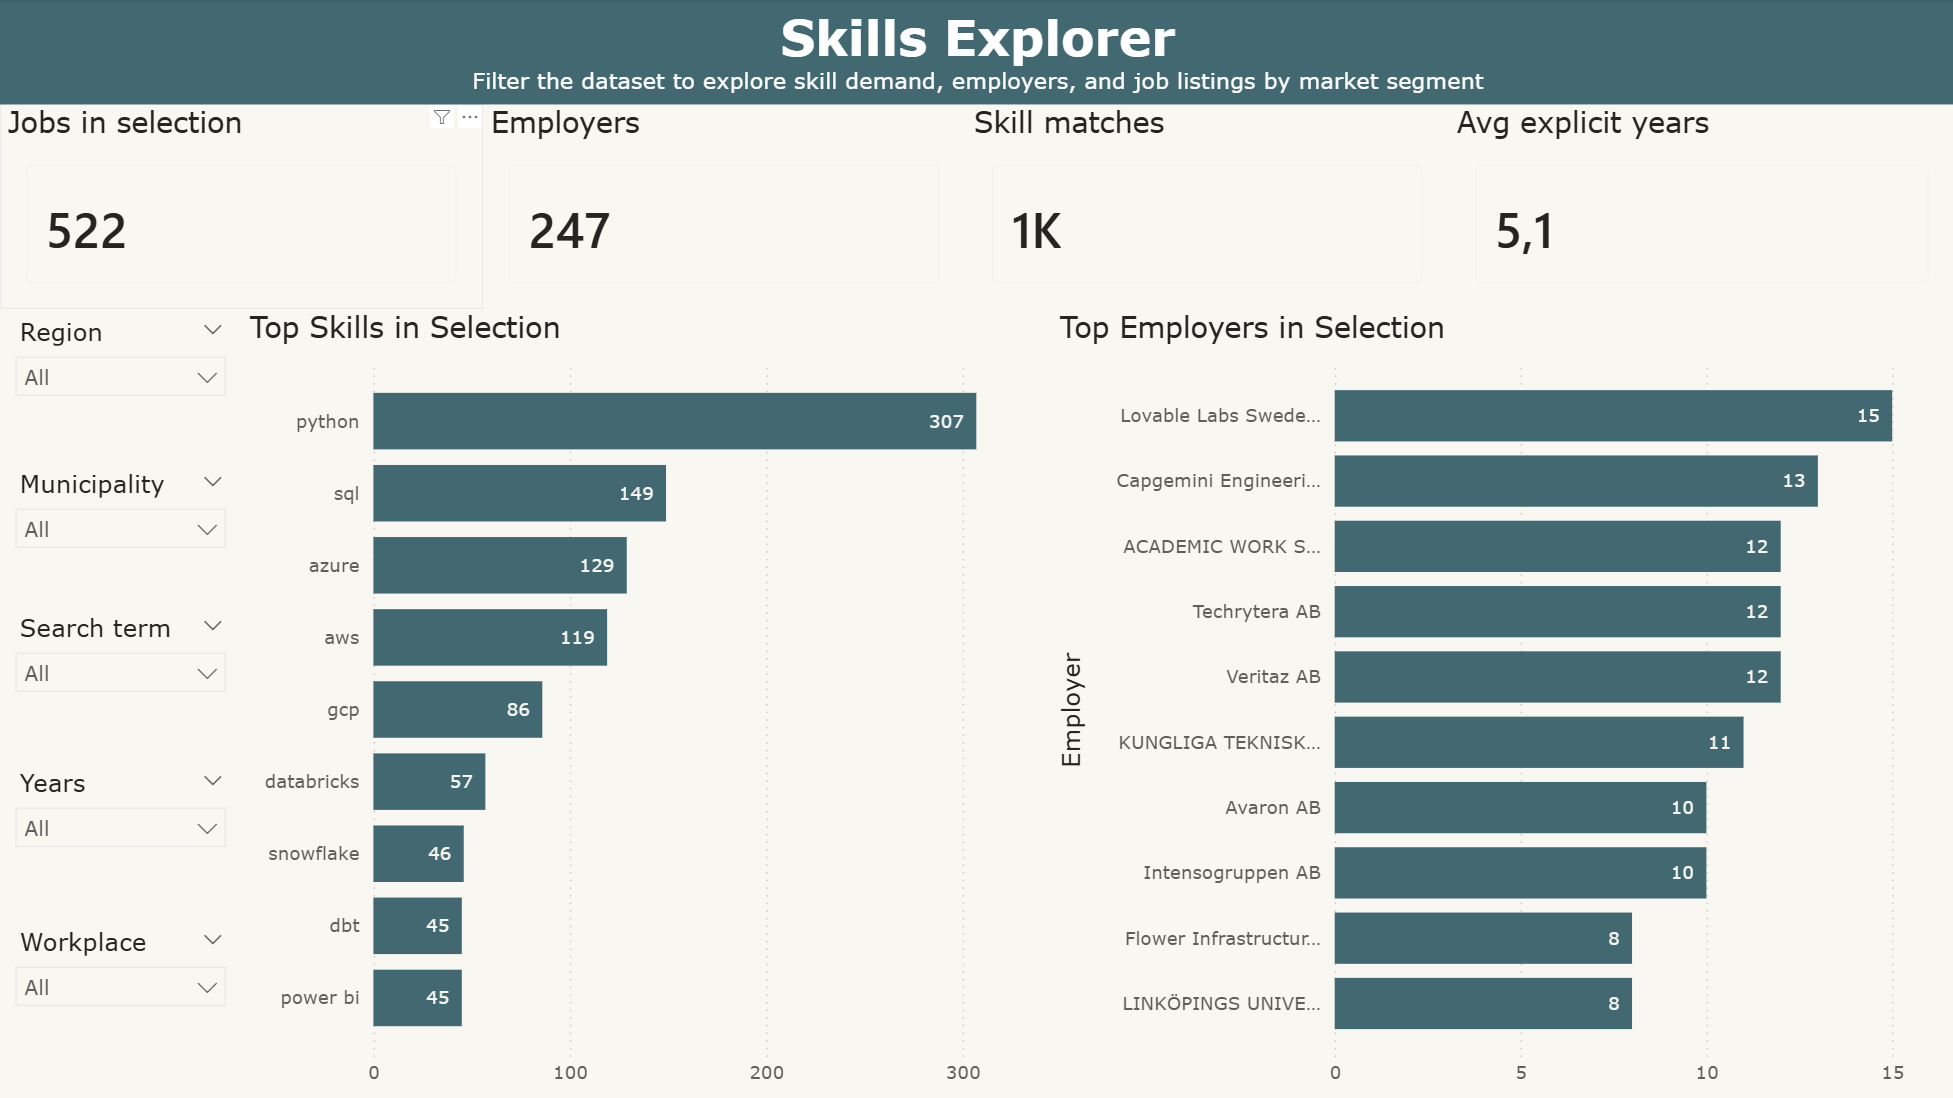

Layout of this report page (visuals, bound fields, positions):
{"tool":"powerbi","page":{"name":"Skills & Filters","canvas":[1280,720],"ordinal":1},"visuals":[{"type":"slicer","fields":{"Values":["jobs.region"]},"box":[0,202.9,158.4,99.5],"z":0},{"type":"slicer","fields":{"Values":["jobs.municipality"]},"box":[0,302.3,158.4,94.2],"z":1000},{"type":"slicer","fields":{"Values":["jobs.workplace_type"]},"box":[0,602,158.4,117.8],"z":2000},{"type":"slicer","fields":{"Values":["jobs.search_term"]},"box":[0,396.6,158.4,101.4],"z":3000},{"type":"slicer","fields":{"Values":["jobs.years_experience"]},"box":[0,498,158.4,104],"z":4000},{"type":"cardVisual","title":"Jobs in selection","fields":{"Data":["jobs.Job Count"]},"box":[0,68.7,316.1,134.2],"z":5000},{"type":"cardVisual","title":"Employers","fields":{"Data":["jobs.Employer Count"]},"box":[316.1,68.7,316.1,134.2],"z":6000},{"type":"cardVisual","title":"Skill matches","fields":{"Data":["jobs.Skill Match Count"]},"box":[632.1,68.7,316.1,134.2],"z":7000},{"type":"cardVisual","title":"Avg explicit years","fields":{"Data":["jobs.Average Explicit Years"]},"box":[948.2,68.7,331.8,134.2],"z":8000},{"type":"clusteredBarChart","title":"Top Skills in Selection","fields":{"Category":["job_skills.skill"],"Y":["jobs.Skill Match Count"]},"box":[158.4,202.9,530.1,517],"z":9000},{"type":"clusteredBarChart","title":"Top Employers in Selection","fields":{"Category":["jobs.employer"],"Y":["jobs.Job Count"]},"box":[688.4,202.9,591.6,517],"z":10000},{"type":"textbox","box":[0,0,1280,68.7],"z":11000}]}

Visuals, with their boxes in screenshot pixels (x1, y1, x2, y2), scaled from the page's 1280x720 canvas onto the 1953x1098 screenshot:
slicer - jobs.region: (left=0, top=309, right=242, bottom=461)
slicer - jobs.municipality: (left=0, top=461, right=242, bottom=605)
slicer - jobs.workplace_type: (left=0, top=918, right=242, bottom=1097)
slicer - jobs.search_term: (left=0, top=605, right=242, bottom=759)
slicer - jobs.years_experience: (left=0, top=759, right=242, bottom=918)
"Jobs in selection" cardVisual: (left=0, top=105, right=482, bottom=309)
"Employers" cardVisual: (left=482, top=105, right=965, bottom=309)
"Skill matches" cardVisual: (left=964, top=105, right=1447, bottom=309)
"Avg explicit years" cardVisual: (left=1447, top=105, right=1952, bottom=309)
"Top Skills in Selection" clusteredBarChart: (left=242, top=309, right=1051, bottom=1097)
"Top Employers in Selection" clusteredBarChart: (left=1050, top=309, right=1952, bottom=1097)
textbox: (left=0, top=0, right=1952, bottom=105)
